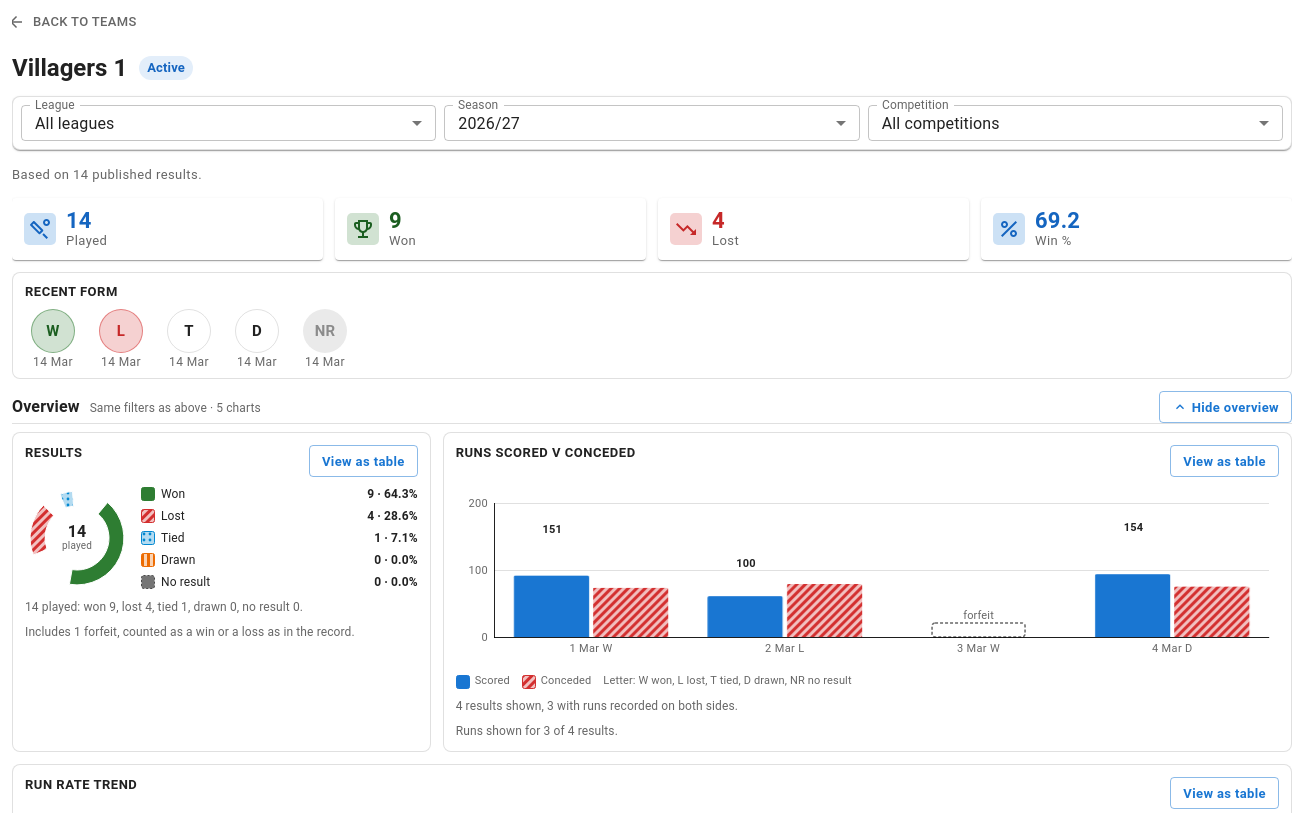
Scenario: Team Overview block › Hide and Show › Hide removes the cards and sets aria-expanded false; Show brings them back
Expected: the element with test id "dashboard-card-results" is shown, x1=12 y1=432 x2=431 y2=752
Click the button with test id "team-dashboard-toggle" at (1225, 407), box x1=1159 y1=391 x2=1292 y2=423
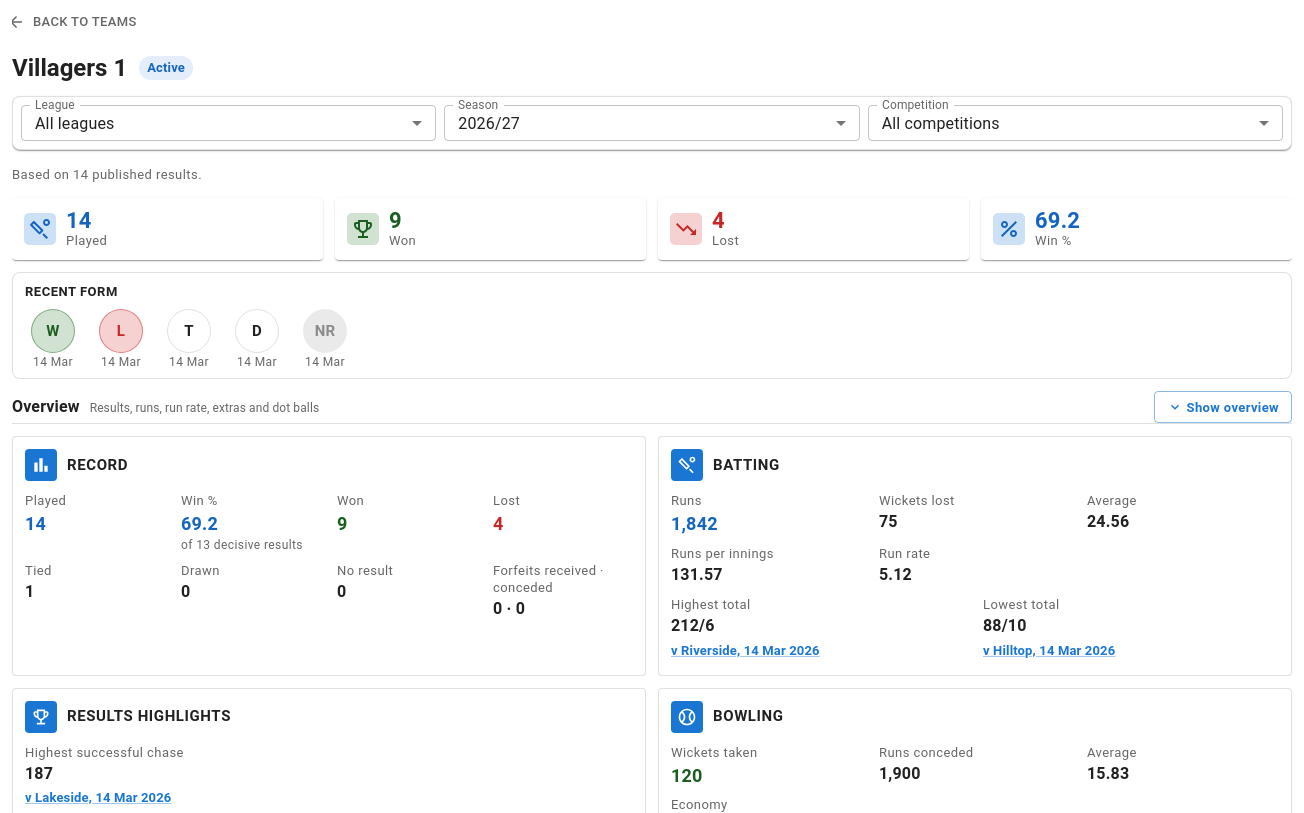
Result: the button with test id "team-dashboard-toggle" is collapsed
Result: the button with test id "team-dashboard-toggle" reads "Show overview"
Result: the element with test id "dashboard-card-results" is gone
Click the button with test id "team-dashboard-toggle" at (1223, 407), box x1=1154 y1=391 x2=1292 y2=423
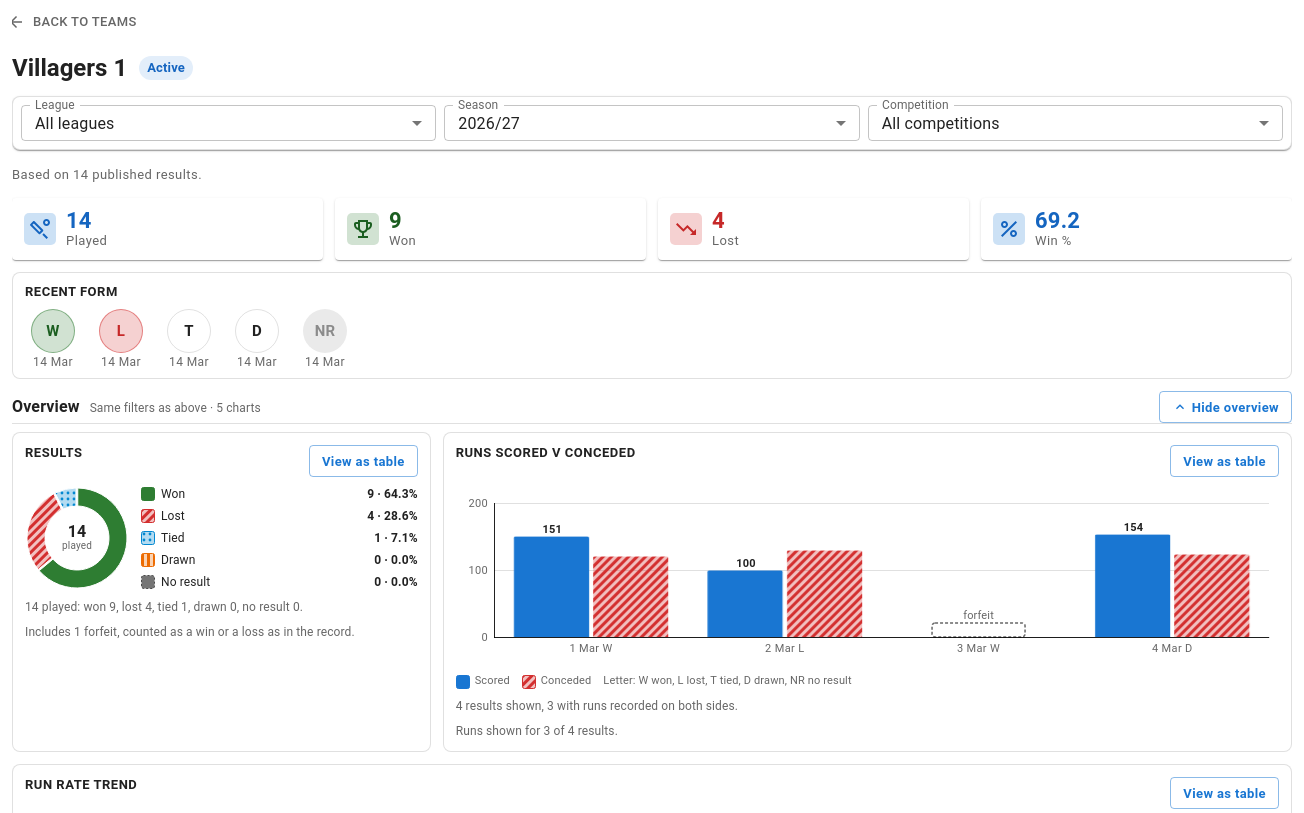
Result: the button with test id "team-dashboard-toggle" is expanded at x1=1159 y1=391 x2=1292 y2=423
Result: the element with test id "dashboard-card-results" is shown at x1=12 y1=432 x2=431 y2=752
